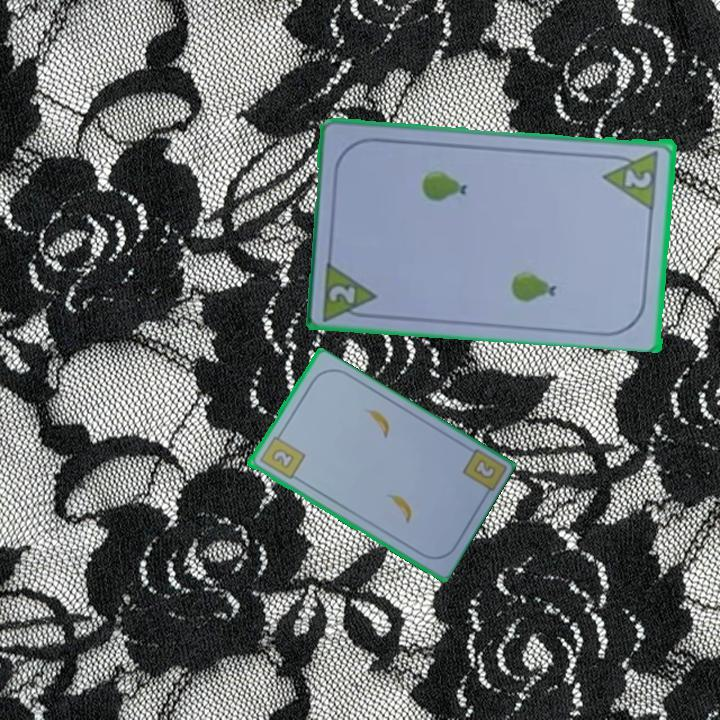2b: (256, 429, 307, 482), (472, 458, 497, 480)
2p: (621, 165, 655, 191), (325, 281, 359, 306)
